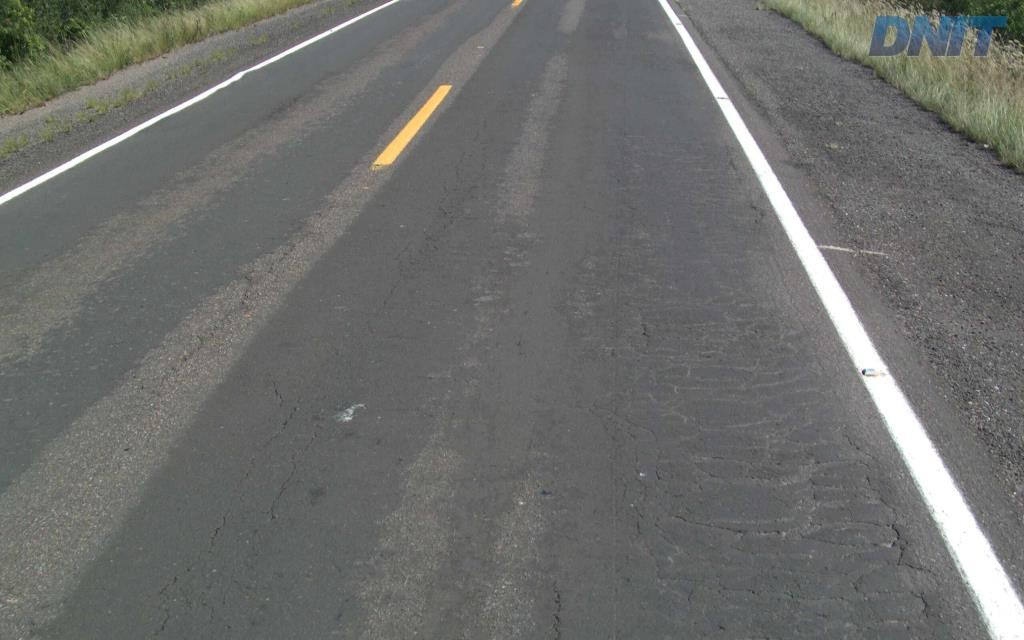crack: (547, 580, 563, 639)
